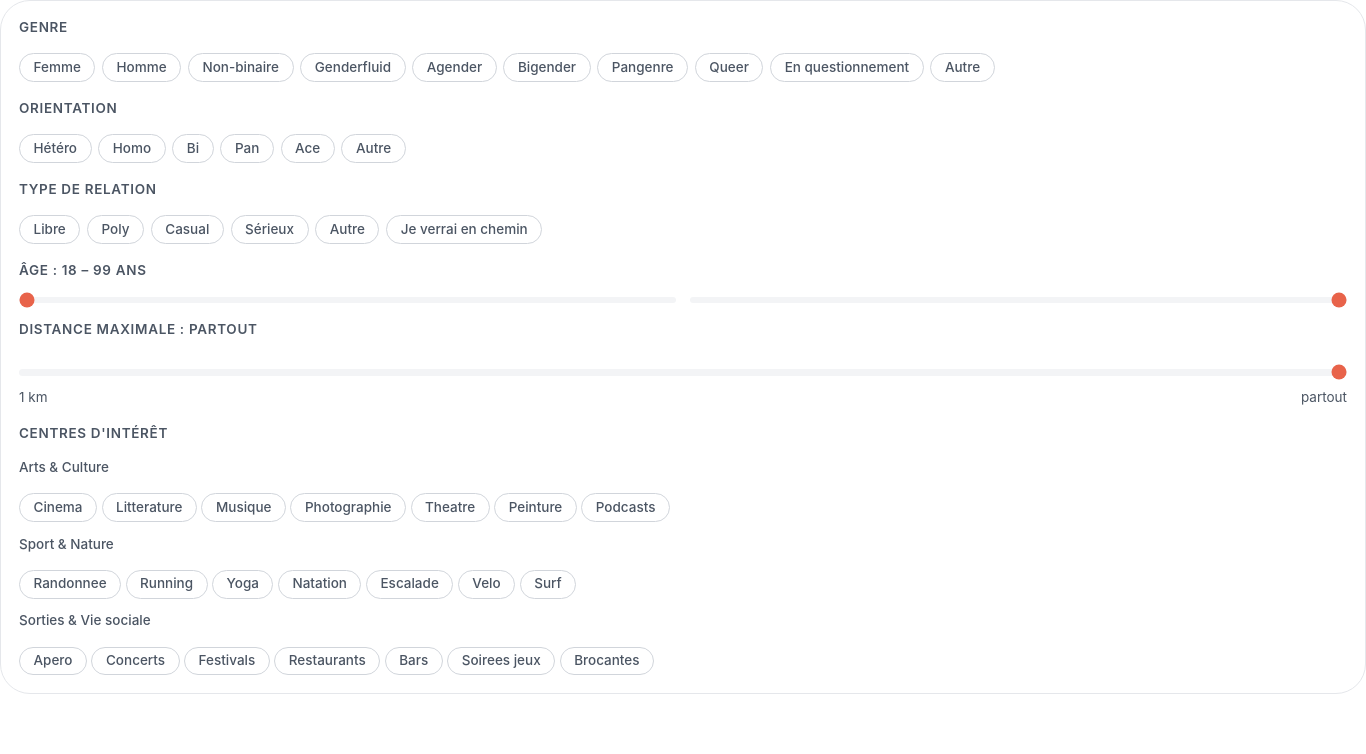
Scenario: <SearchFilters /> — réciprocité (#519) › sans consentement art. 9, la question embarque la case et l'error la dit
Click the button "Femme".
click(57, 68)  # box [19,53,95,82]
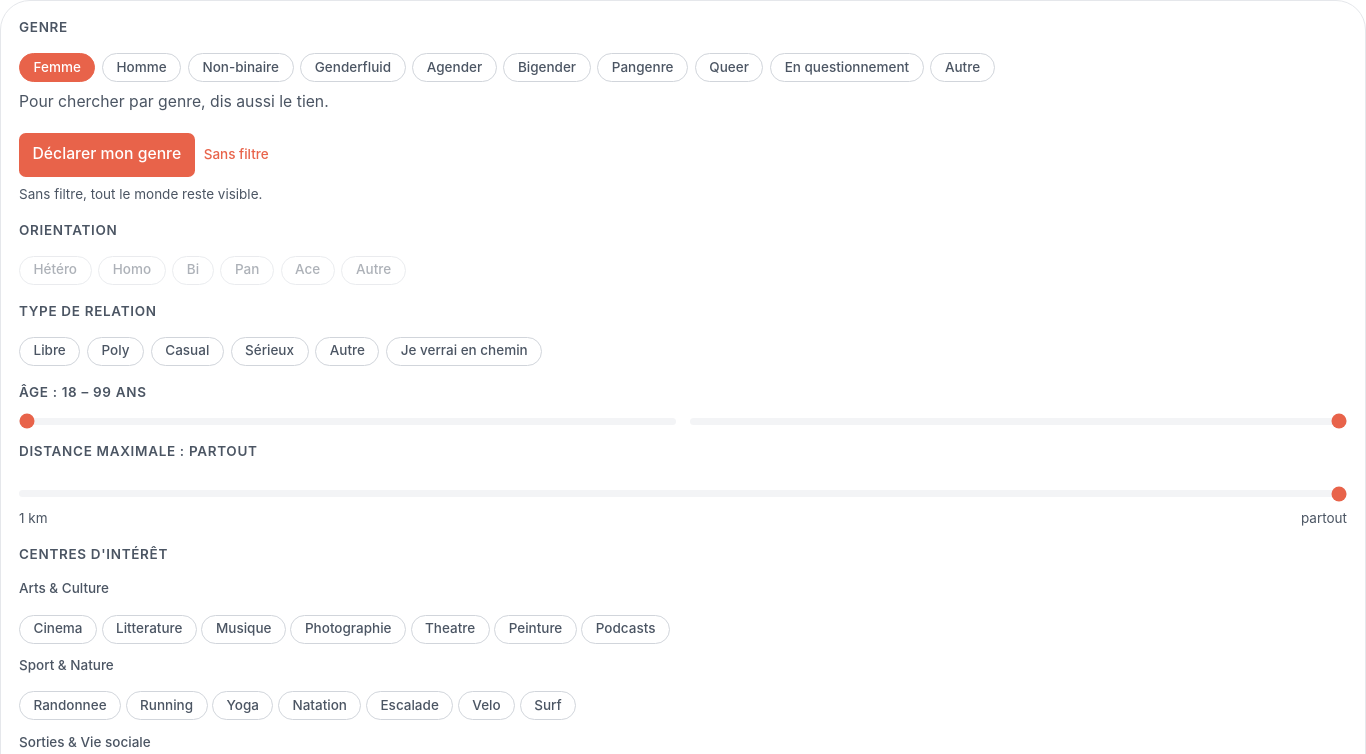
Click the button "Déclarer mon genre".
click(107, 154)  # box [19,132,195,176]
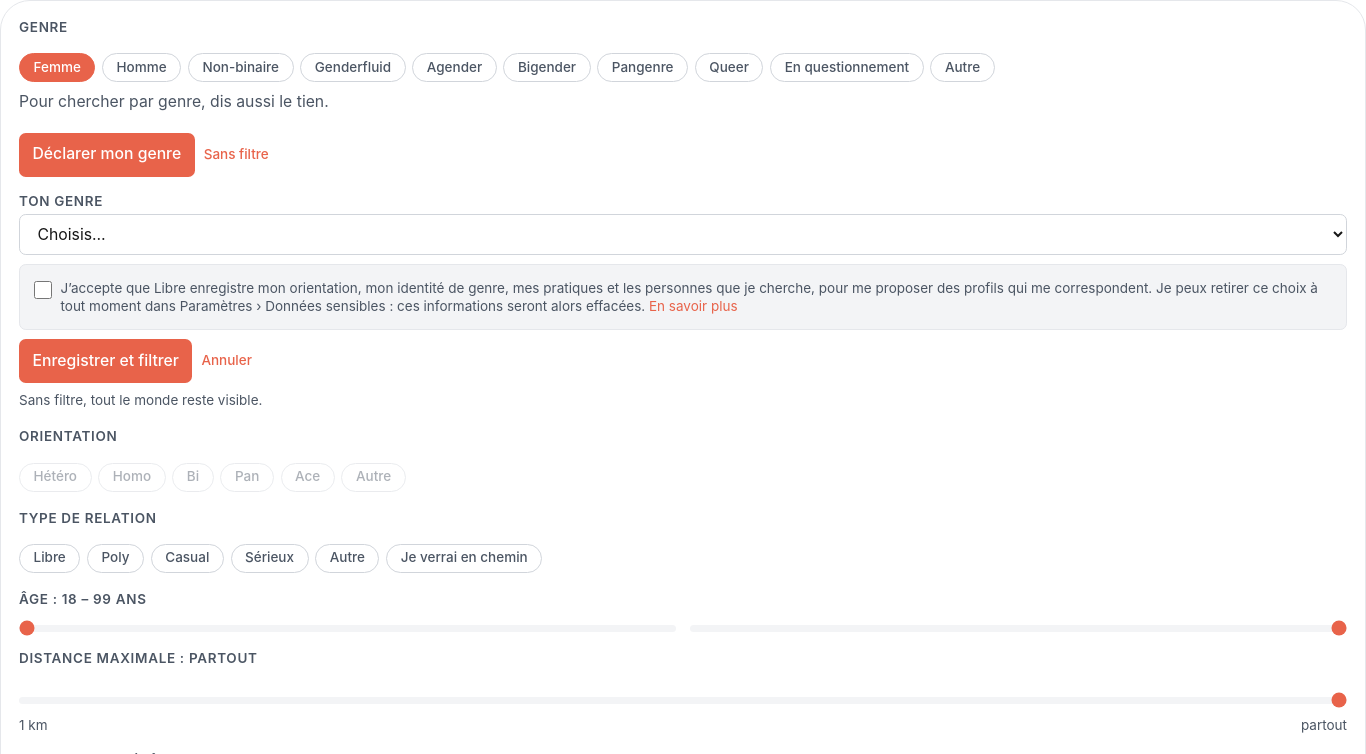
expect the checkbox labelled "J’accepte que Libre enregistre" is shown: met, box [34,281,52,299]
Select "Femme" in the dropdown labelled "Ton genre" at (683,235), box [19,214,1347,255]
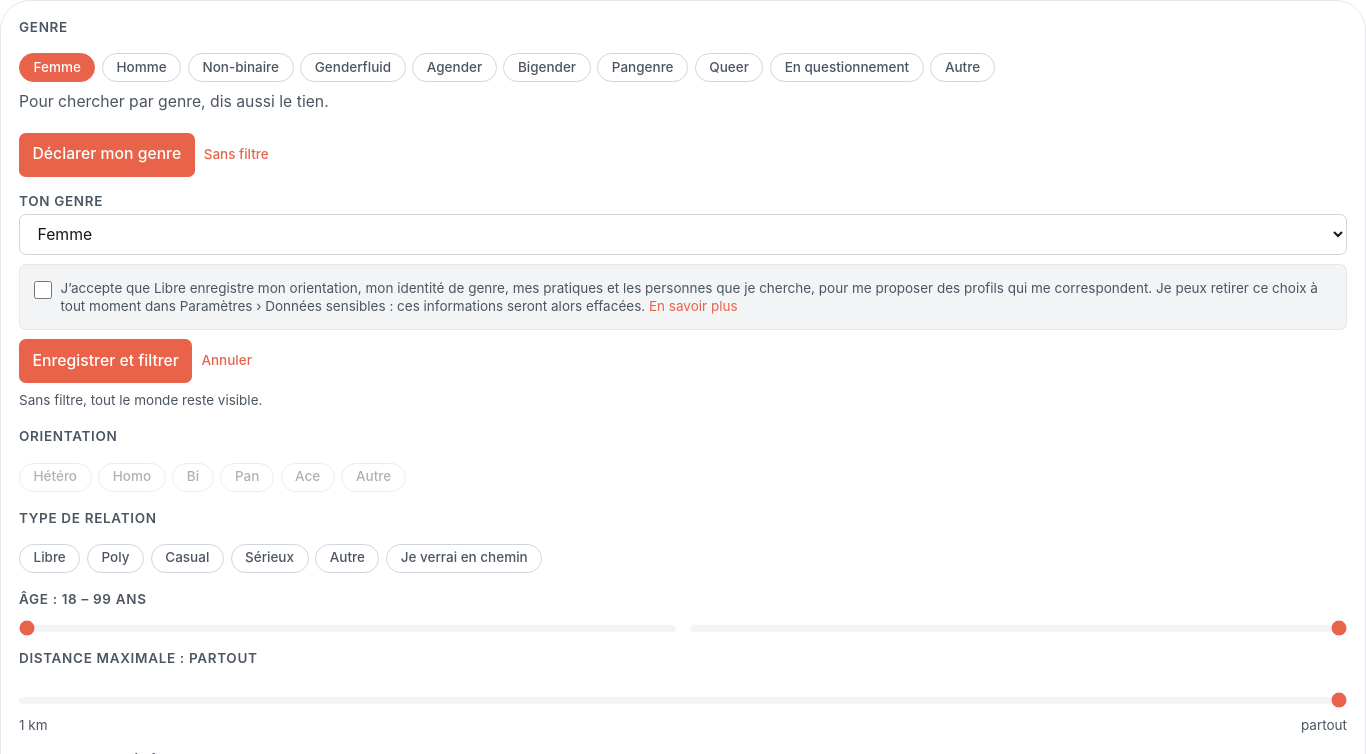
Click the button "Enregistrer et filtrer".
click(106, 362)  # box [19,340,192,384]
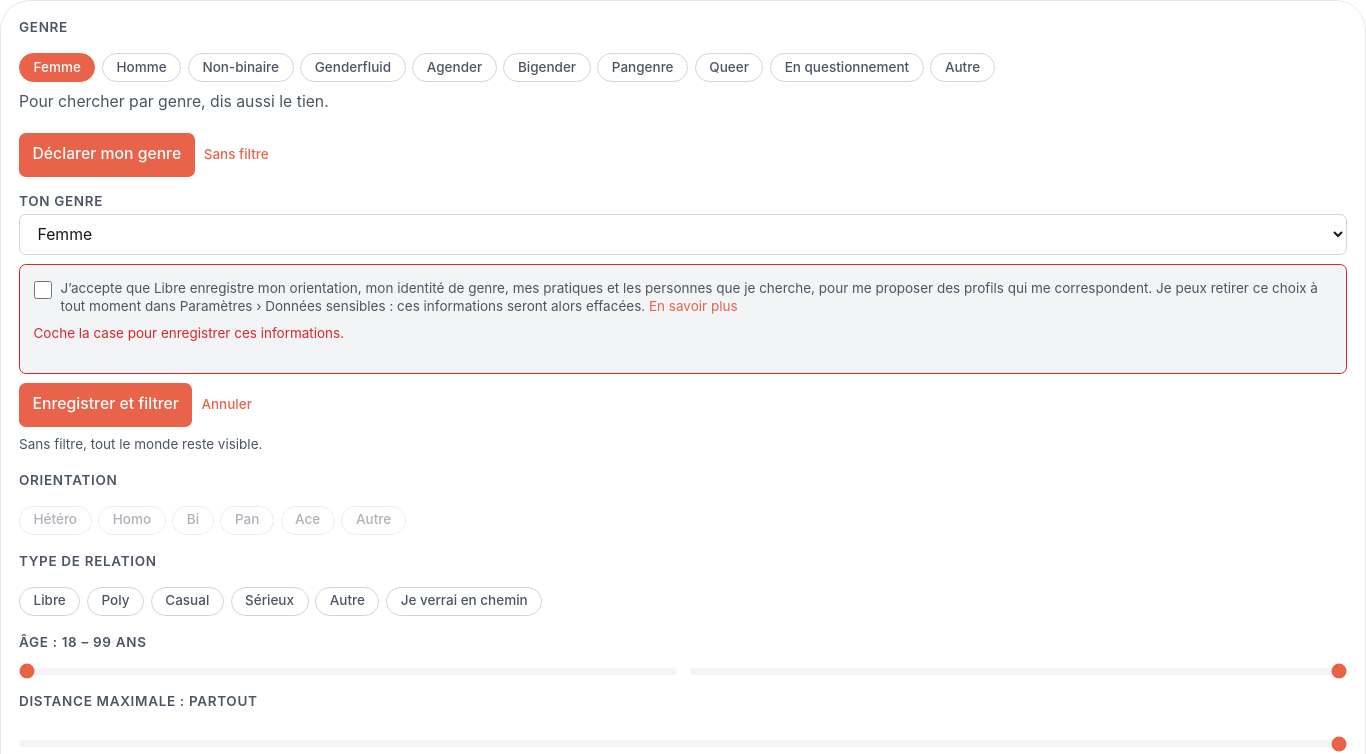
expect the text "Coche la case pour enregistrer ces informations." is shown: met, box [34,325,344,341]
